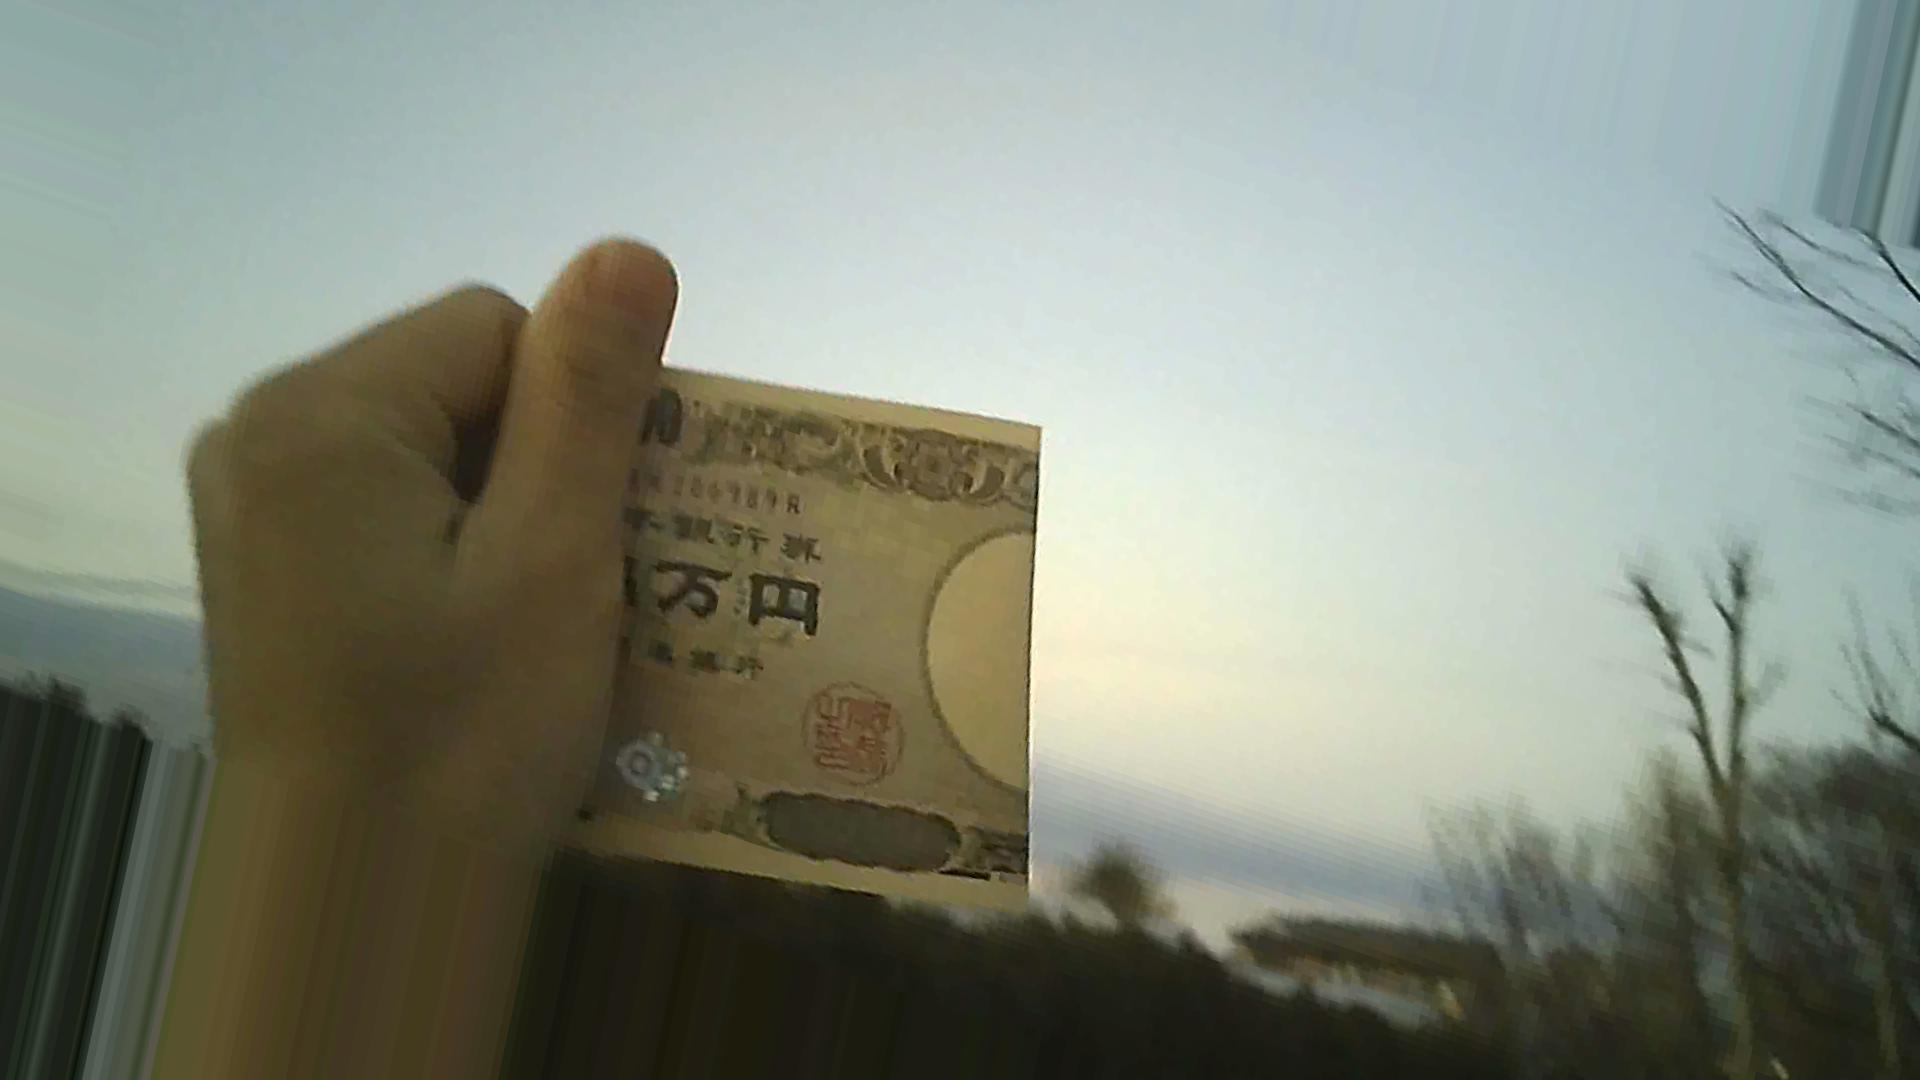10,000 Yen: (491, 315, 1068, 891)
